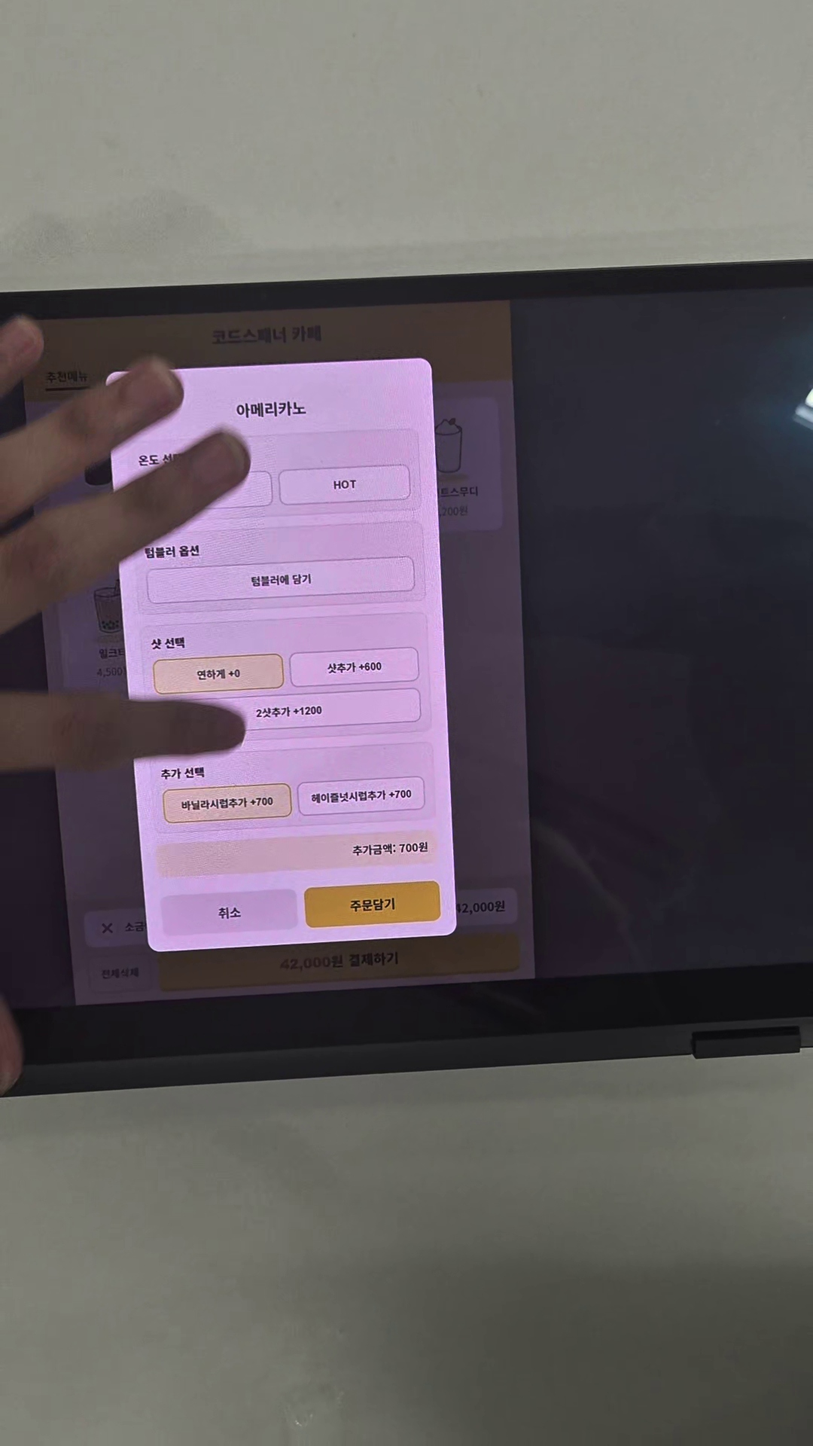action_button: (161, 887, 299, 937), (306, 880, 446, 926)
option_button: (146, 555, 415, 608), (166, 690, 418, 734), (292, 773, 426, 817), (286, 644, 418, 687), (161, 784, 294, 826), (281, 462, 407, 504), (154, 653, 287, 692)
popup_modal: (110, 355, 464, 956)
